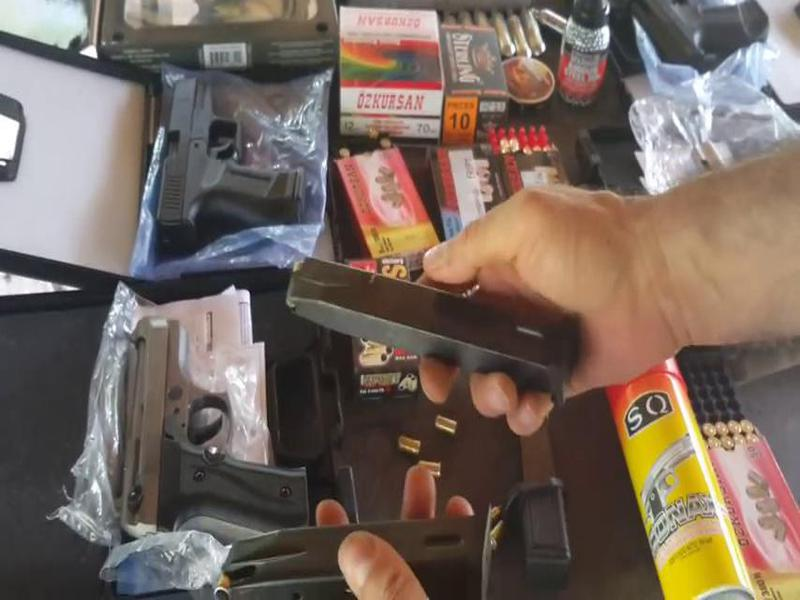Pistola: (107, 303, 320, 540), (146, 54, 317, 256)
